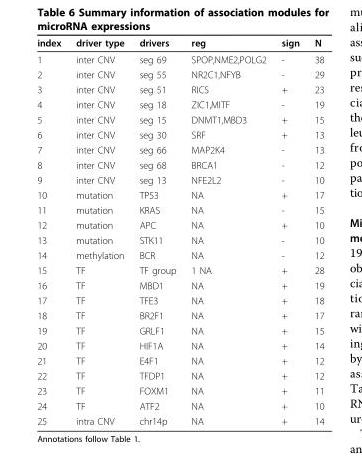table: (36, 36, 323, 426)
table column: (183, 36, 273, 426), (67, 36, 131, 426), (131, 36, 183, 426), (273, 36, 306, 426), (36, 36, 67, 426), (306, 36, 323, 426)
table column header: (36, 36, 323, 50)
table row: (36, 50, 323, 66), (36, 141, 323, 157), (36, 382, 323, 398), (36, 66, 323, 81), (36, 81, 323, 96), (36, 96, 323, 111), (36, 111, 323, 126), (36, 126, 323, 141), (36, 157, 323, 172), (36, 172, 323, 187), (36, 187, 323, 202), (36, 202, 323, 217), (36, 217, 323, 232), (36, 232, 323, 247), (36, 247, 323, 262), (36, 262, 323, 277), (36, 277, 323, 292), (36, 292, 323, 307), (36, 307, 323, 322), (36, 322, 323, 337), (36, 337, 323, 352), (36, 352, 323, 367), (36, 367, 323, 382), (36, 398, 323, 413), (36, 36, 323, 50), (36, 413, 323, 426)
